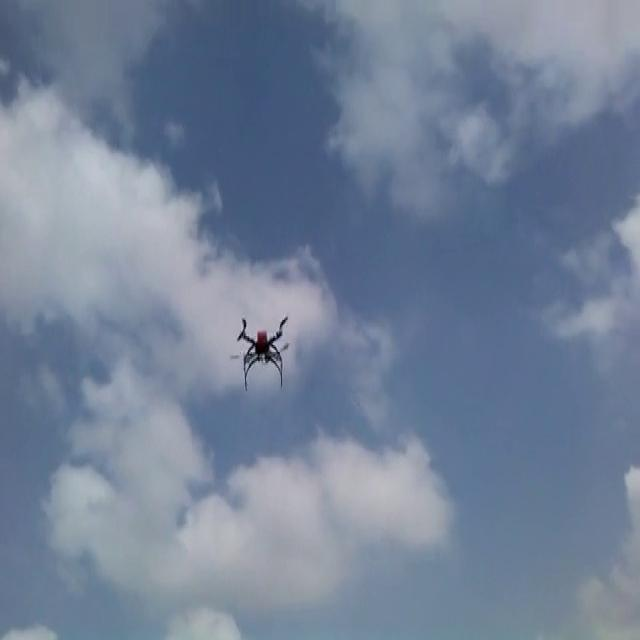drone: (230, 308, 289, 390)
